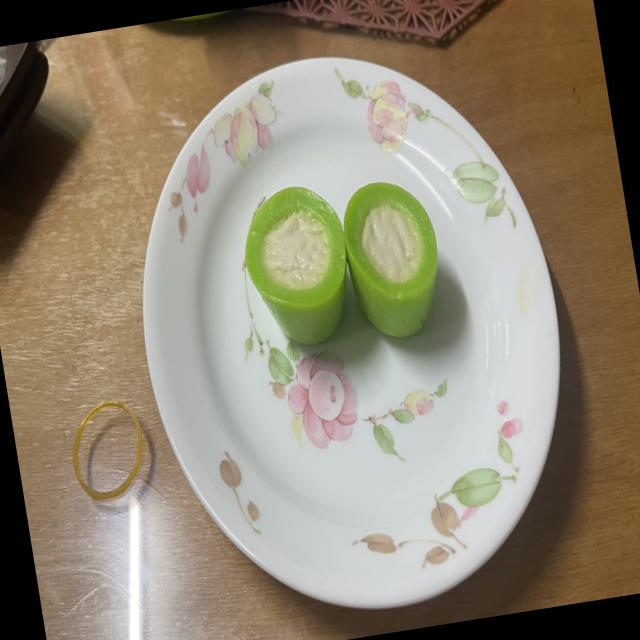nona-manis: (245, 186, 347, 345), (343, 182, 438, 337)
